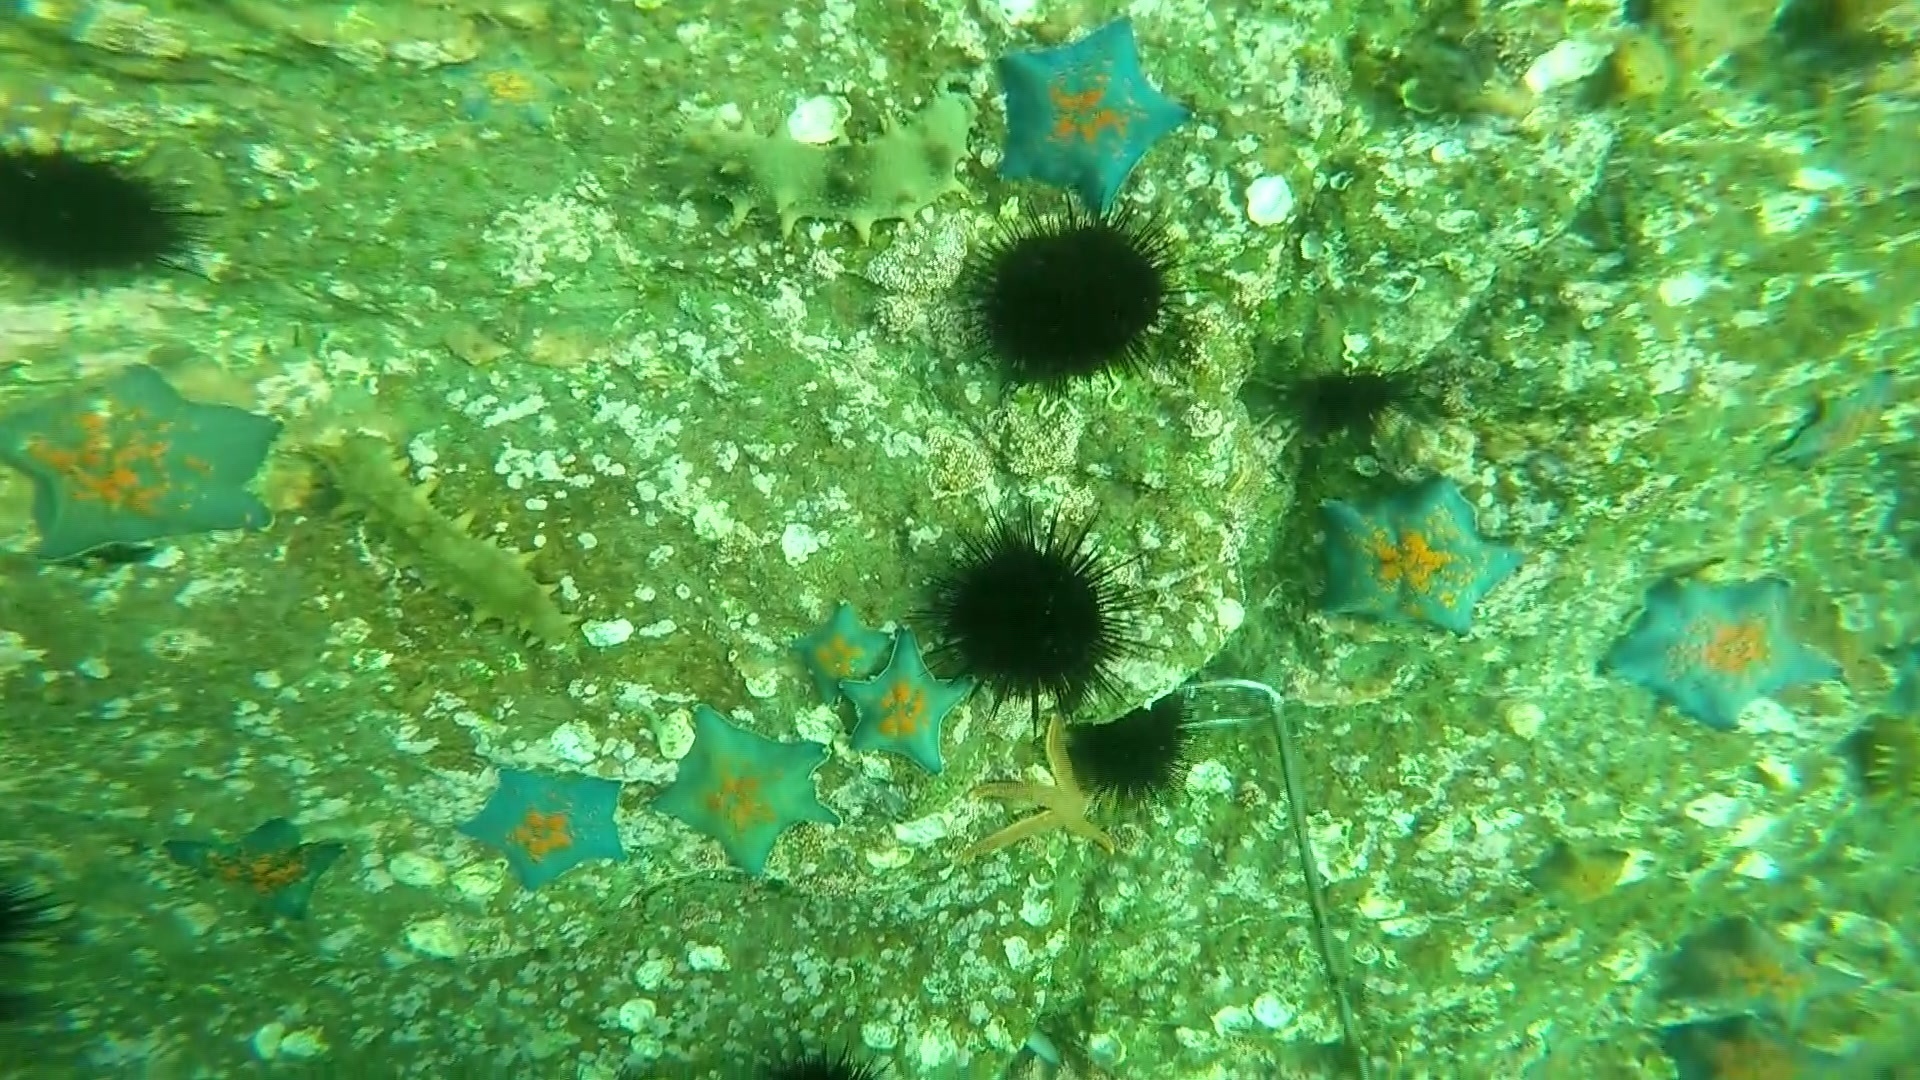echinus: (926, 512, 1141, 715), (960, 206, 1183, 394), (1, 135, 204, 290), (1058, 694, 1200, 814), (1263, 357, 1422, 446), (1, 866, 76, 1036), (1847, 708, 1920, 827), (738, 1029, 887, 1076), (1766, 1, 1878, 61)
holothurian: (307, 429, 580, 658), (655, 84, 993, 251)
starfish: (1, 357, 285, 566), (988, 16, 1193, 212), (1604, 568, 1846, 735), (1307, 472, 1526, 641), (647, 704, 841, 881), (1646, 909, 1867, 1054), (455, 760, 634, 897), (160, 807, 353, 934), (836, 632, 975, 775), (1775, 365, 1917, 477), (436, 41, 574, 142), (785, 597, 902, 708), (1647, 1007, 1846, 1071), (1520, 832, 1644, 919), (1869, 632, 1920, 728)
